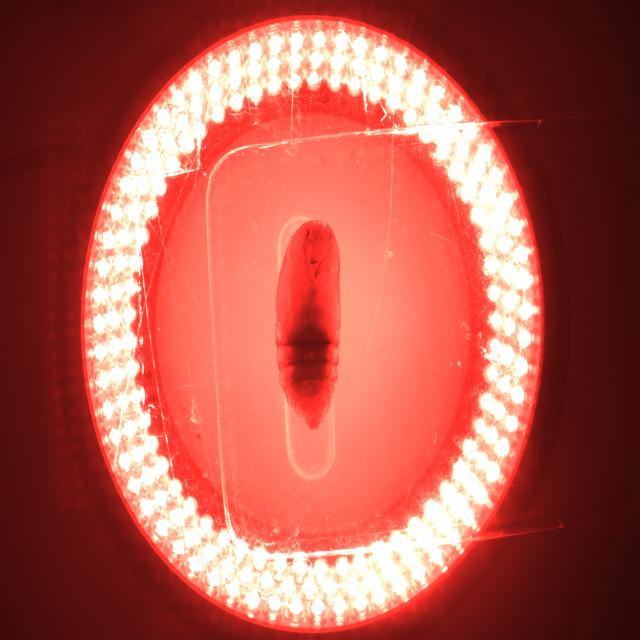female: (310, 405, 318, 414)
